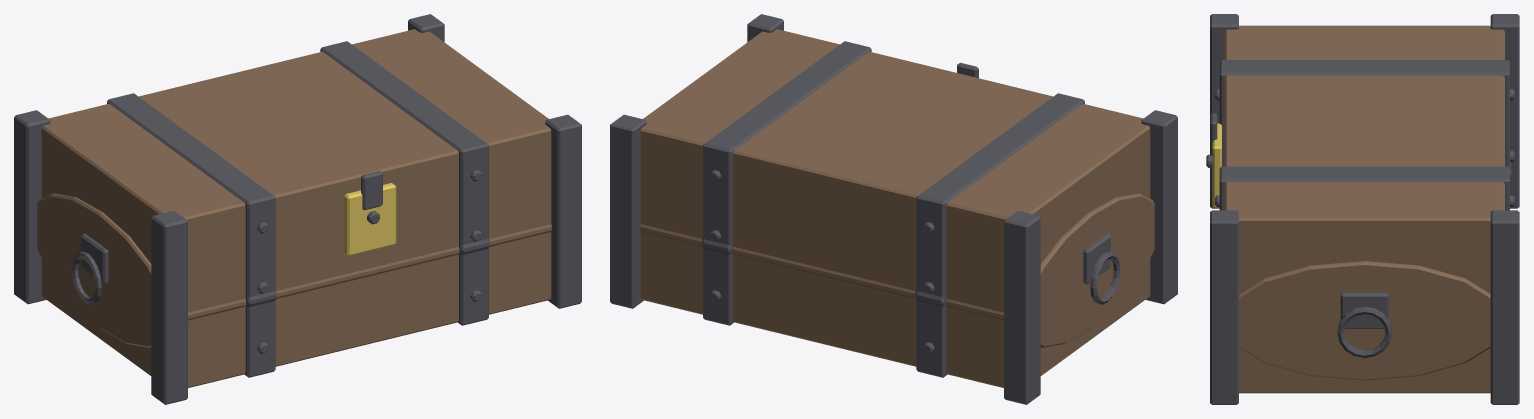
The model's file is prop_medieval_war_chest.glb.
3 renders of one model, left to right at view 1: azimuth 30°, elevation 25°; view 2: azimuth 150°, elevation 25°; view 3: azimuth 270°, elevation 25°, orthographic. The views are drawn at different scales.
Visible parts, largest first — view 1: prop_medieval_war_chest; view 2: prop_medieval_war_chest; view 3: prop_medieval_war_chest.
Part boxes in pixels (x1,y1,x2,y2): prop_medieval_war_chest: [14, 14, 581, 404]; prop_medieval_war_chest: [610, 14, 1177, 404]; prop_medieval_war_chest: [1206, 14, 1519, 404].
Bounding box in the file's own units: 1.05 × 0.42 × 0.6475.
